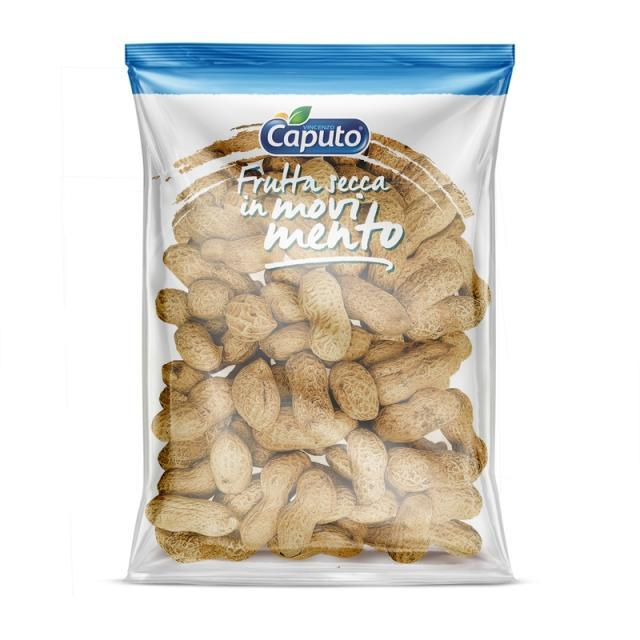Frutta secca: (153, 275, 480, 561)
